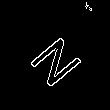N_NE: (23, 23, 87, 87)
